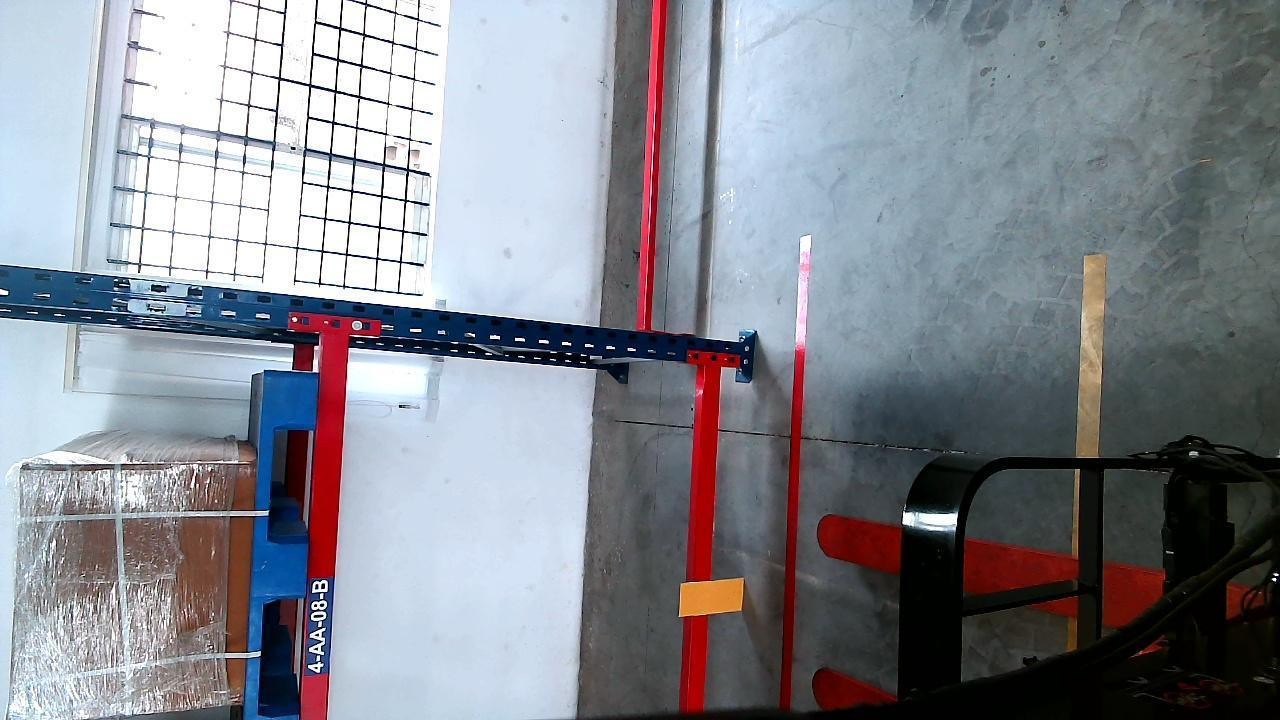h_rack: (303, 333, 351, 720), (686, 363, 721, 705)
orange_strip: (682, 578, 745, 614)
red_line: (779, 237, 812, 717)
small_pallet: (244, 364, 316, 720)
yellow_line: (1077, 252, 1104, 454)
